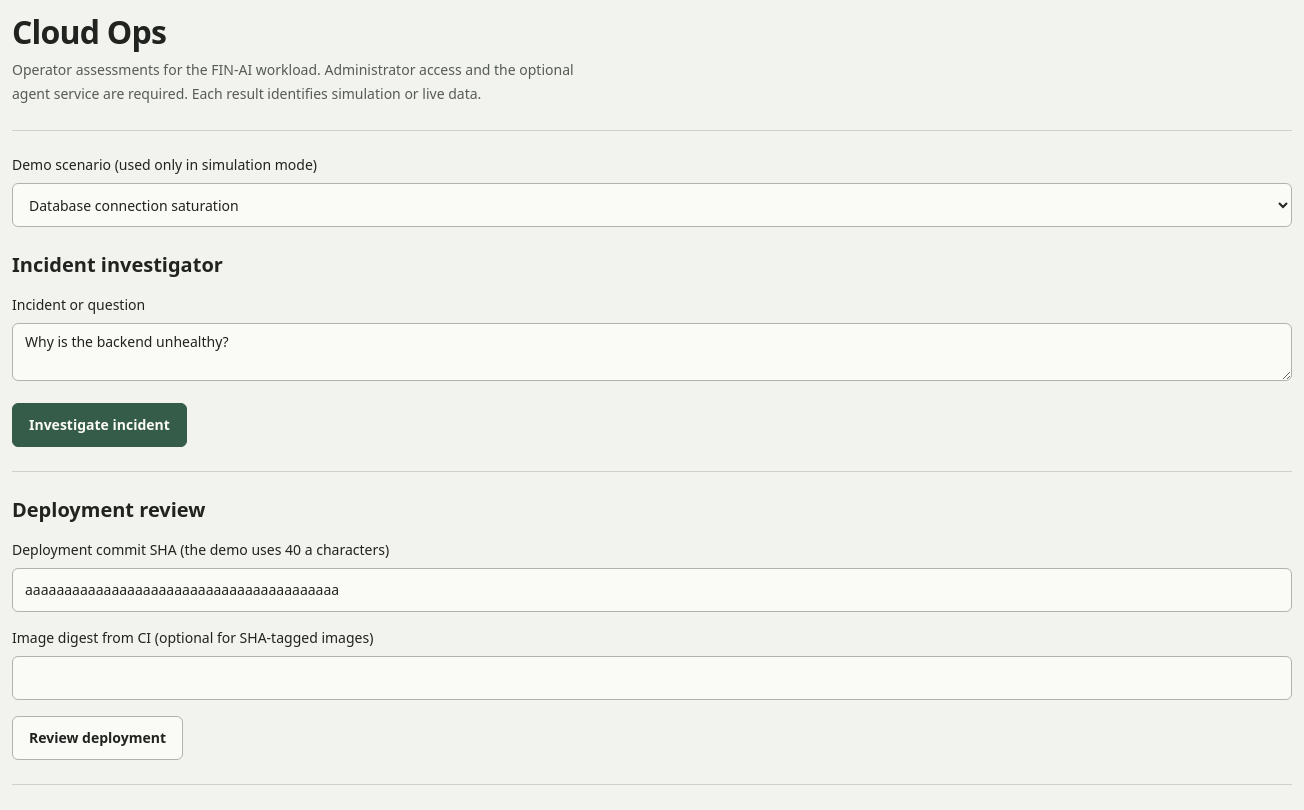
Cloud Ops › labels simulated evidence and displays a grounded assessment
The image size is (1304, 810).
Click the button "Investigate incident" at (99, 425), box x1=12 y1=403 x2=187 y2=447
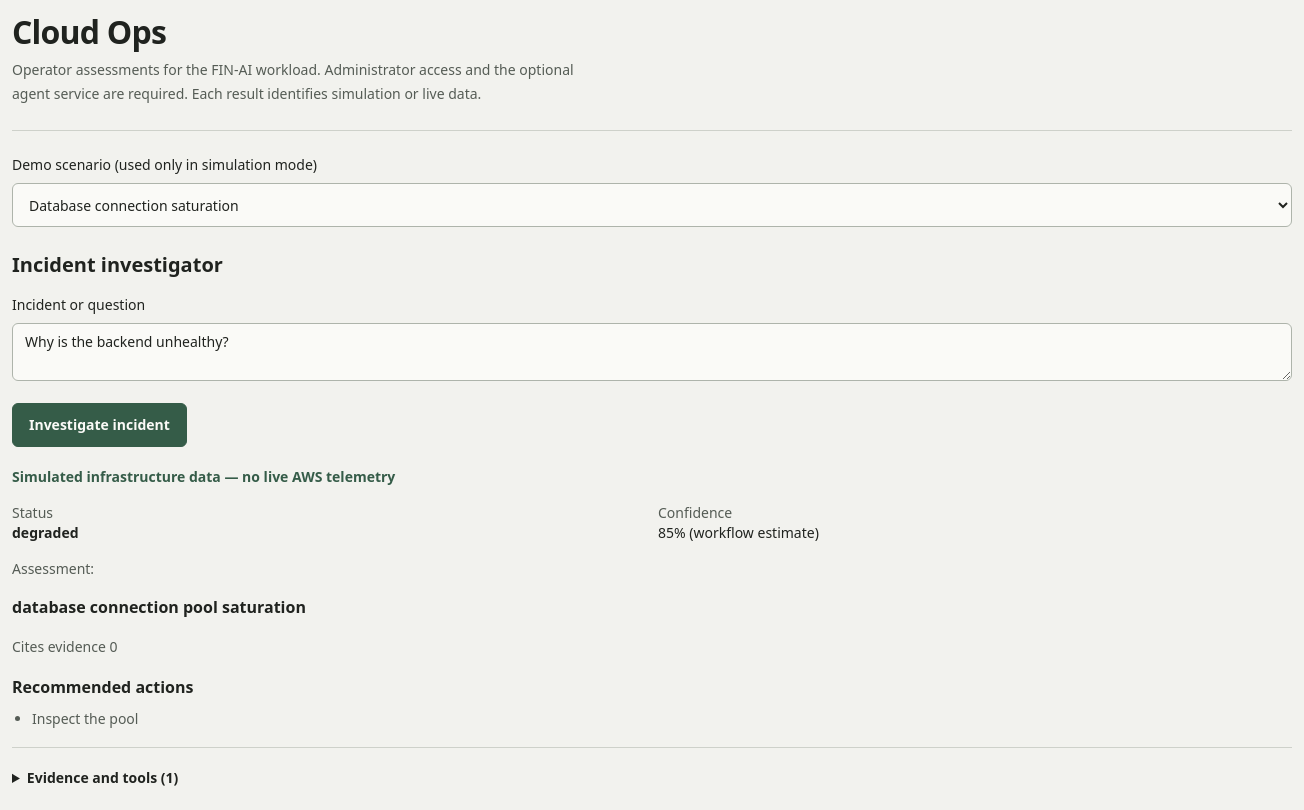
Result: the text "database connection pool saturation" is shown at x1=12 y1=596 x2=306 y2=618
Result: the text "Simulated infrastructure data — no live AWS telemetry" is shown at x1=12 y1=467 x2=395 y2=486
